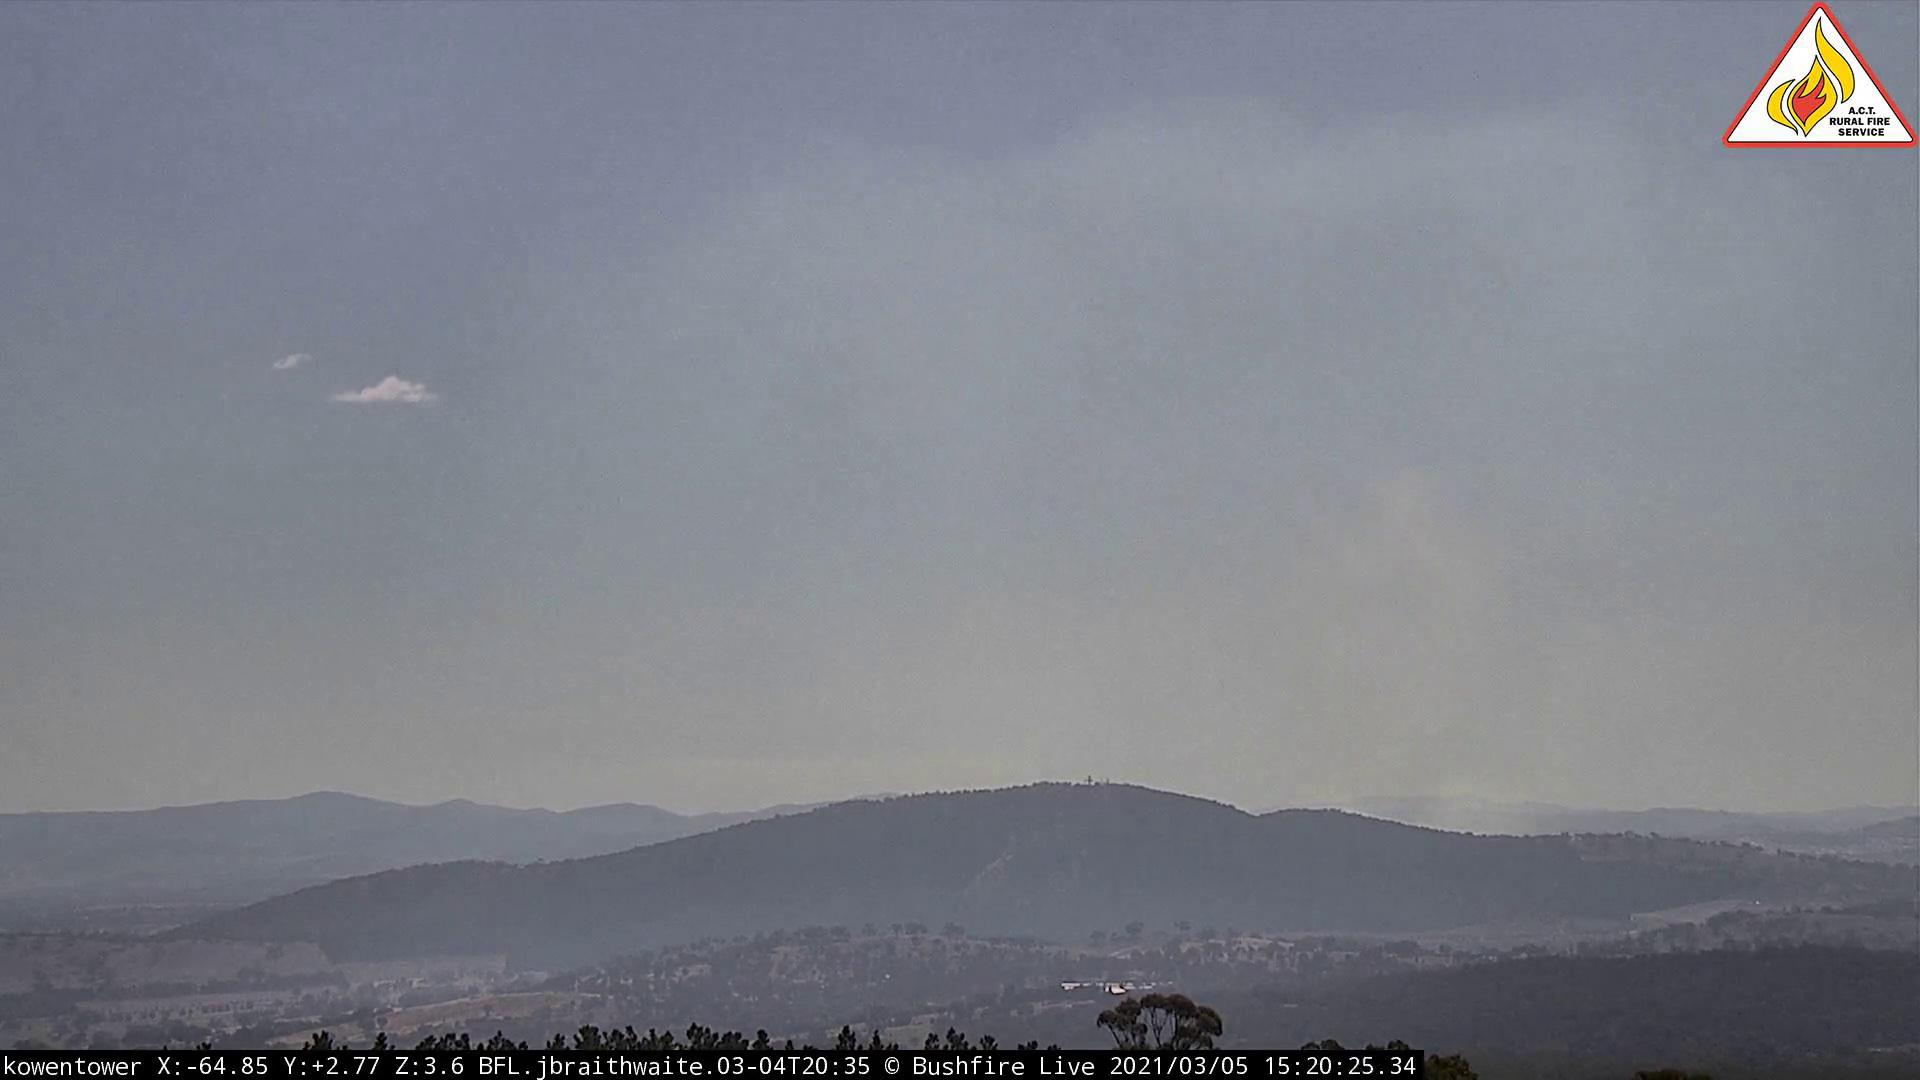Smoke: (1175, 430, 1578, 843)
